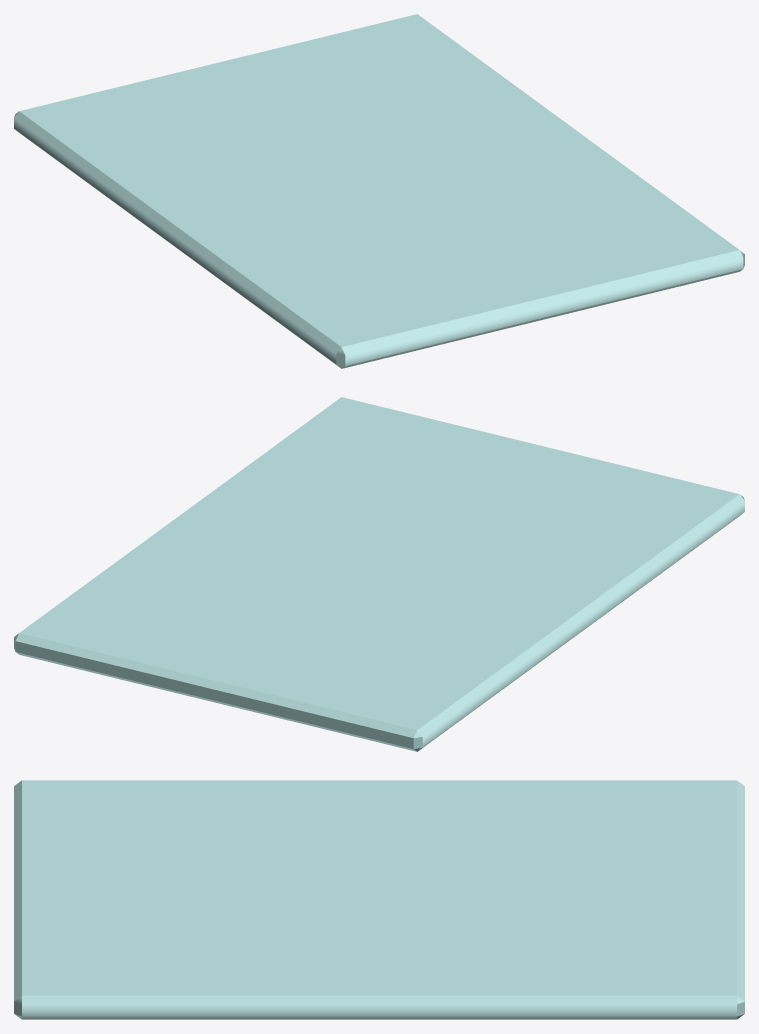
The model's file is cover.fbx.
The picture shows the model from 3 angles, top to bottom: view 1: azimuth 30°, elevation 25°; view 2: azimuth 150°, elevation 25°; view 3: azimuth 270°, elevation 25°; orthographic projection. The views are drawn at different scales.
Parts seen in each view (by area): view 1: polySurface3; view 2: polySurface3; view 3: polySurface3.
Boxes of the visible parts, left/top/right/bottom form: polySurface3: left=14, top=14, right=744, bottom=368; polySurface3: left=14, top=397, right=744, bottom=751; polySurface3: left=14, top=780, right=744, bottom=1019.
Size of the model in its own units: 104 by 5.27 by 145.
